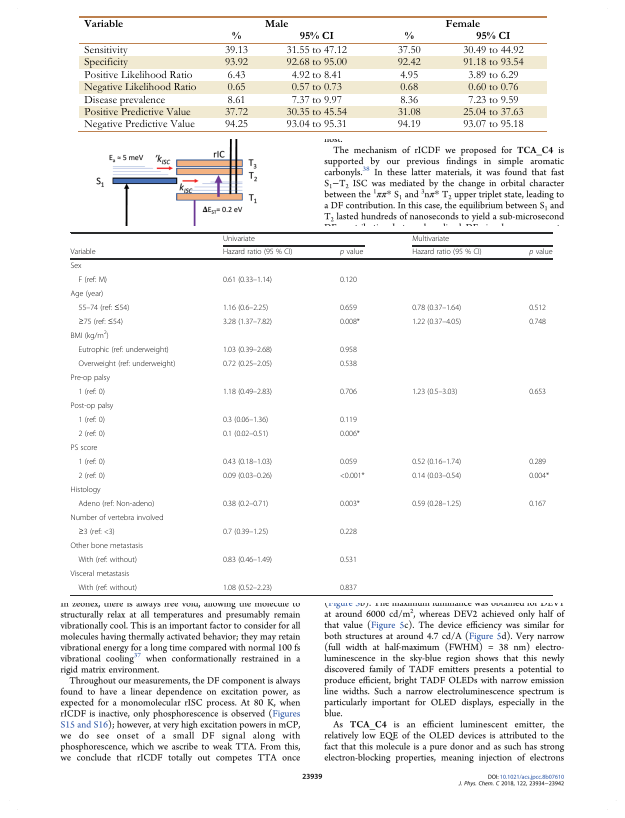borderless: (69, 231, 553, 595), (79, 14, 547, 131)
cell: (83, 82, 197, 94), (83, 119, 195, 131), (83, 69, 193, 81), (83, 107, 191, 119), (77, 359, 176, 369), (83, 94, 165, 106), (70, 513, 164, 523), (77, 345, 170, 355), (77, 499, 155, 509), (285, 45, 347, 57), (462, 45, 524, 57), (285, 57, 347, 69), (462, 57, 524, 69), (285, 107, 347, 119), (462, 107, 524, 119), (285, 119, 347, 131), (462, 119, 524, 131), (70, 541, 144, 551), (411, 248, 483, 258), (222, 248, 293, 258), (290, 69, 342, 81), (467, 69, 519, 81), (290, 82, 342, 94), (467, 82, 519, 94), (290, 94, 342, 106), (467, 94, 519, 106), (77, 555, 138, 565), (77, 583, 138, 593), (70, 569, 130, 579), (83, 45, 128, 57), (83, 57, 128, 69), (77, 303, 130, 313), (222, 275, 273, 285), (411, 303, 462, 313), (222, 317, 273, 327), (411, 317, 462, 327), (222, 345, 273, 355), (222, 359, 273, 369), (222, 387, 273, 397), (222, 457, 273, 467), (411, 457, 462, 467), (222, 471, 273, 481), (411, 471, 462, 481), (411, 499, 462, 509), (222, 555, 273, 565), (222, 583, 273, 593), (222, 303, 269, 313), (77, 317, 124, 327), (411, 387, 458, 397), (222, 415, 269, 425), (222, 429, 269, 439), (222, 499, 269, 509), (222, 527, 269, 537), (70, 330, 110, 341), (70, 401, 114, 411), (70, 373, 111, 383), (83, 18, 124, 28), (77, 527, 116, 537), (444, 18, 480, 28), (411, 235, 450, 244), (70, 289, 104, 299), (298, 31, 334, 40), (475, 31, 511, 40), (77, 275, 108, 285), (70, 485, 101, 495), (222, 235, 256, 244), (223, 45, 248, 57), (396, 45, 421, 57), (223, 57, 248, 69), (396, 57, 421, 69), (223, 107, 248, 119), (396, 107, 421, 119), (223, 119, 248, 131), (396, 119, 421, 131), (77, 387, 106, 397), (77, 415, 106, 425), (77, 429, 106, 439), (77, 457, 106, 467), (77, 471, 106, 481), (70, 443, 98, 453), (339, 471, 366, 481), (70, 248, 96, 258), (263, 18, 289, 28), (339, 248, 364, 258), (528, 248, 553, 258), (226, 69, 246, 81), (226, 82, 246, 94), (226, 94, 246, 106), (399, 69, 418, 81), (399, 82, 418, 94), (399, 94, 418, 106), (339, 317, 361, 327), (339, 429, 361, 439), (528, 471, 550, 481), (339, 499, 361, 509), (339, 275, 358, 285), (339, 303, 358, 313), (528, 303, 547, 313), (528, 317, 547, 327), (339, 345, 358, 355), (339, 359, 358, 369), (339, 387, 358, 397), (528, 387, 547, 397), (339, 415, 358, 425), (339, 457, 358, 467), (528, 457, 547, 467), (528, 499, 547, 509), (339, 527, 358, 537), (339, 555, 358, 565), (339, 583, 358, 593), (70, 261, 82, 271), (230, 31, 241, 40), (403, 31, 414, 40)
